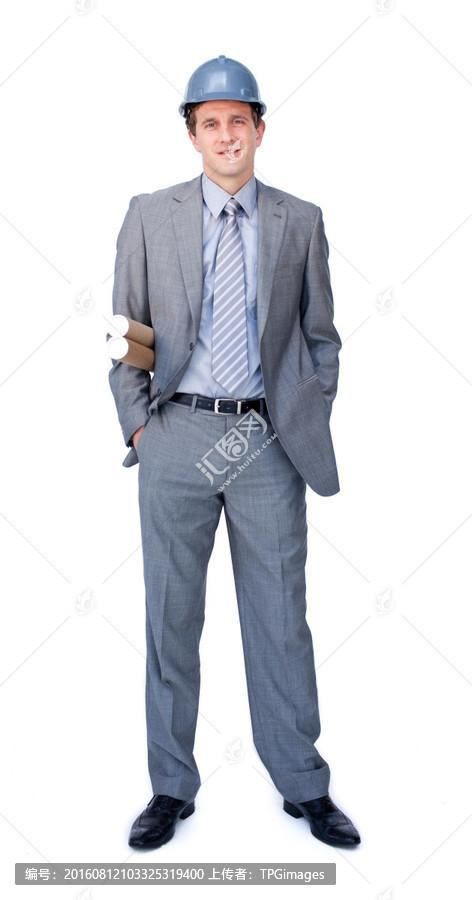helmet: (181, 57, 267, 120)
